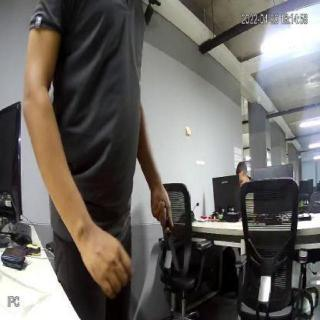knife: (160, 212, 182, 276)
